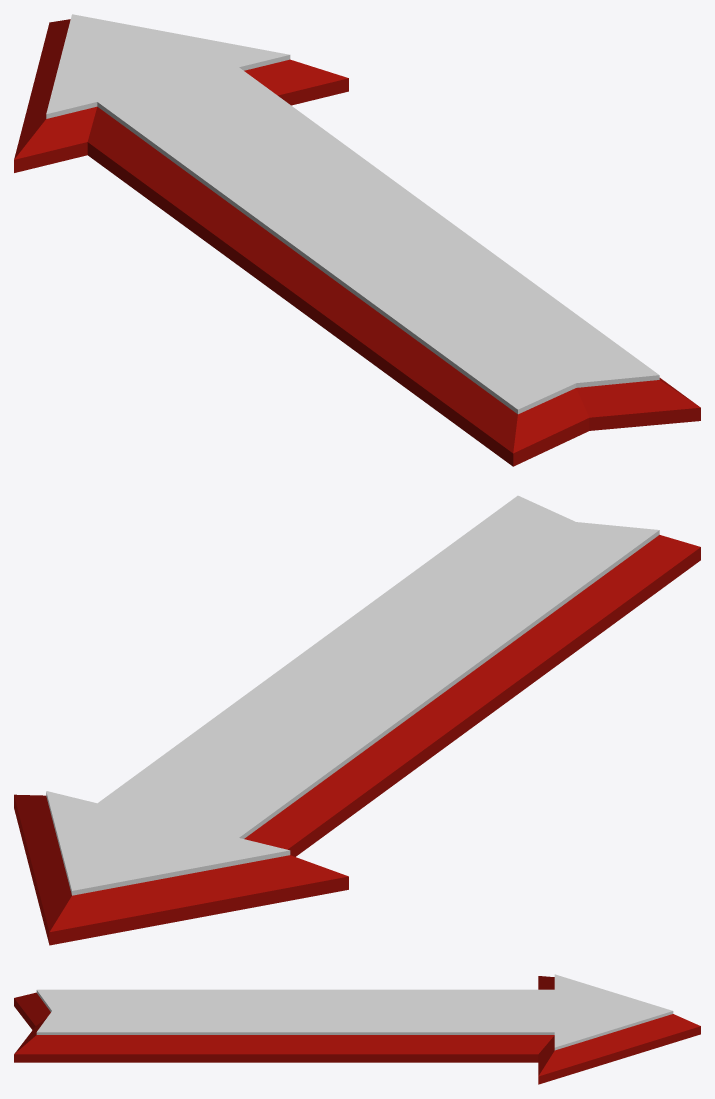
Rendered from van_arrow.fbx.
3 renders of one model, top to bottom at view 1: azimuth 30°, elevation 25°; view 2: azimuth 150°, elevation 25°; view 3: azimuth 270°, elevation 25°, orthographic. The views are drawn at different scales.
Parts seen in each view (by area): view 1: arrow; view 2: arrow; view 3: arrow.
Boxes of the visible parts, x1,y1,x2,y2 form: arrow: (14, 14, 700, 466); arrow: (14, 495, 700, 945); arrow: (14, 974, 700, 1084).
Bounding box in the file's own units: 69.34 × 7.52 × 200.
